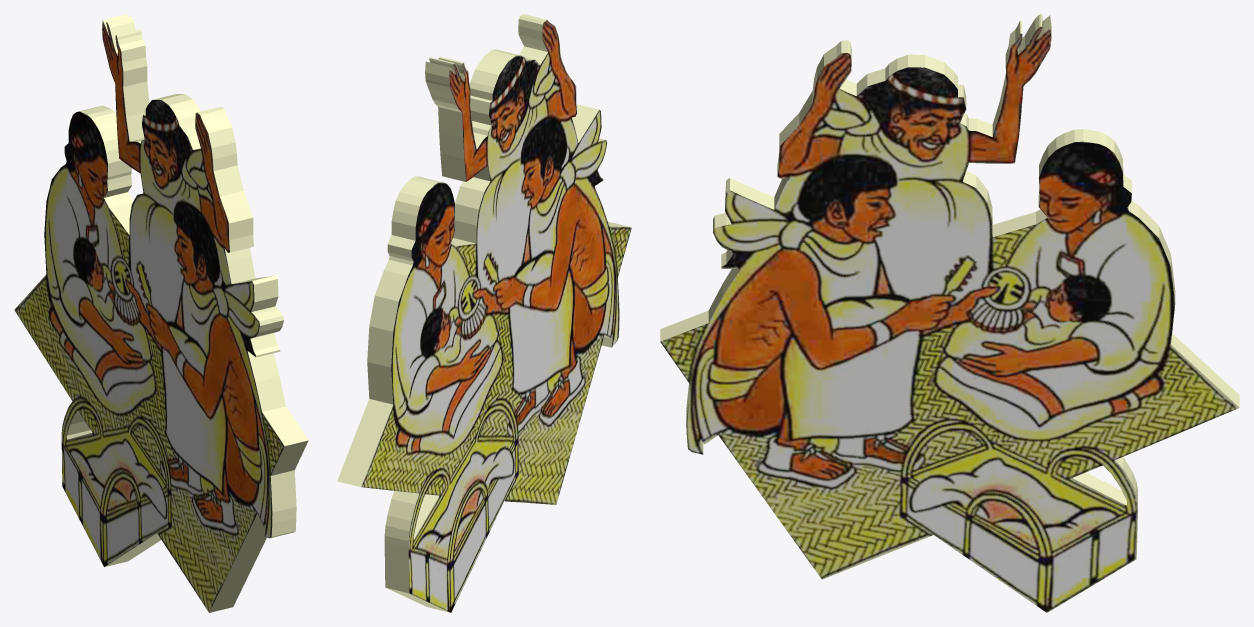
Rendered from hijito.fbx.
3 renders of one model, left to right at view 1: azimuth 30°, elevation 25°; view 2: azimuth 150°, elevation 25°; view 3: azimuth 270°, elevation 25°, orthographic. The views are drawn at different scales.
Parts seen in each view (by area): view 1: Plane; view 2: Plane; view 3: Plane.
Boxes of the visible parts, bbox=[...] form: Plane: bbox=[14, 14, 308, 612]; Plane: bbox=[337, 14, 631, 612]; Plane: bbox=[660, 14, 1239, 612].
Bounding box in the file's own units: 21.88 × 476 × 427.
